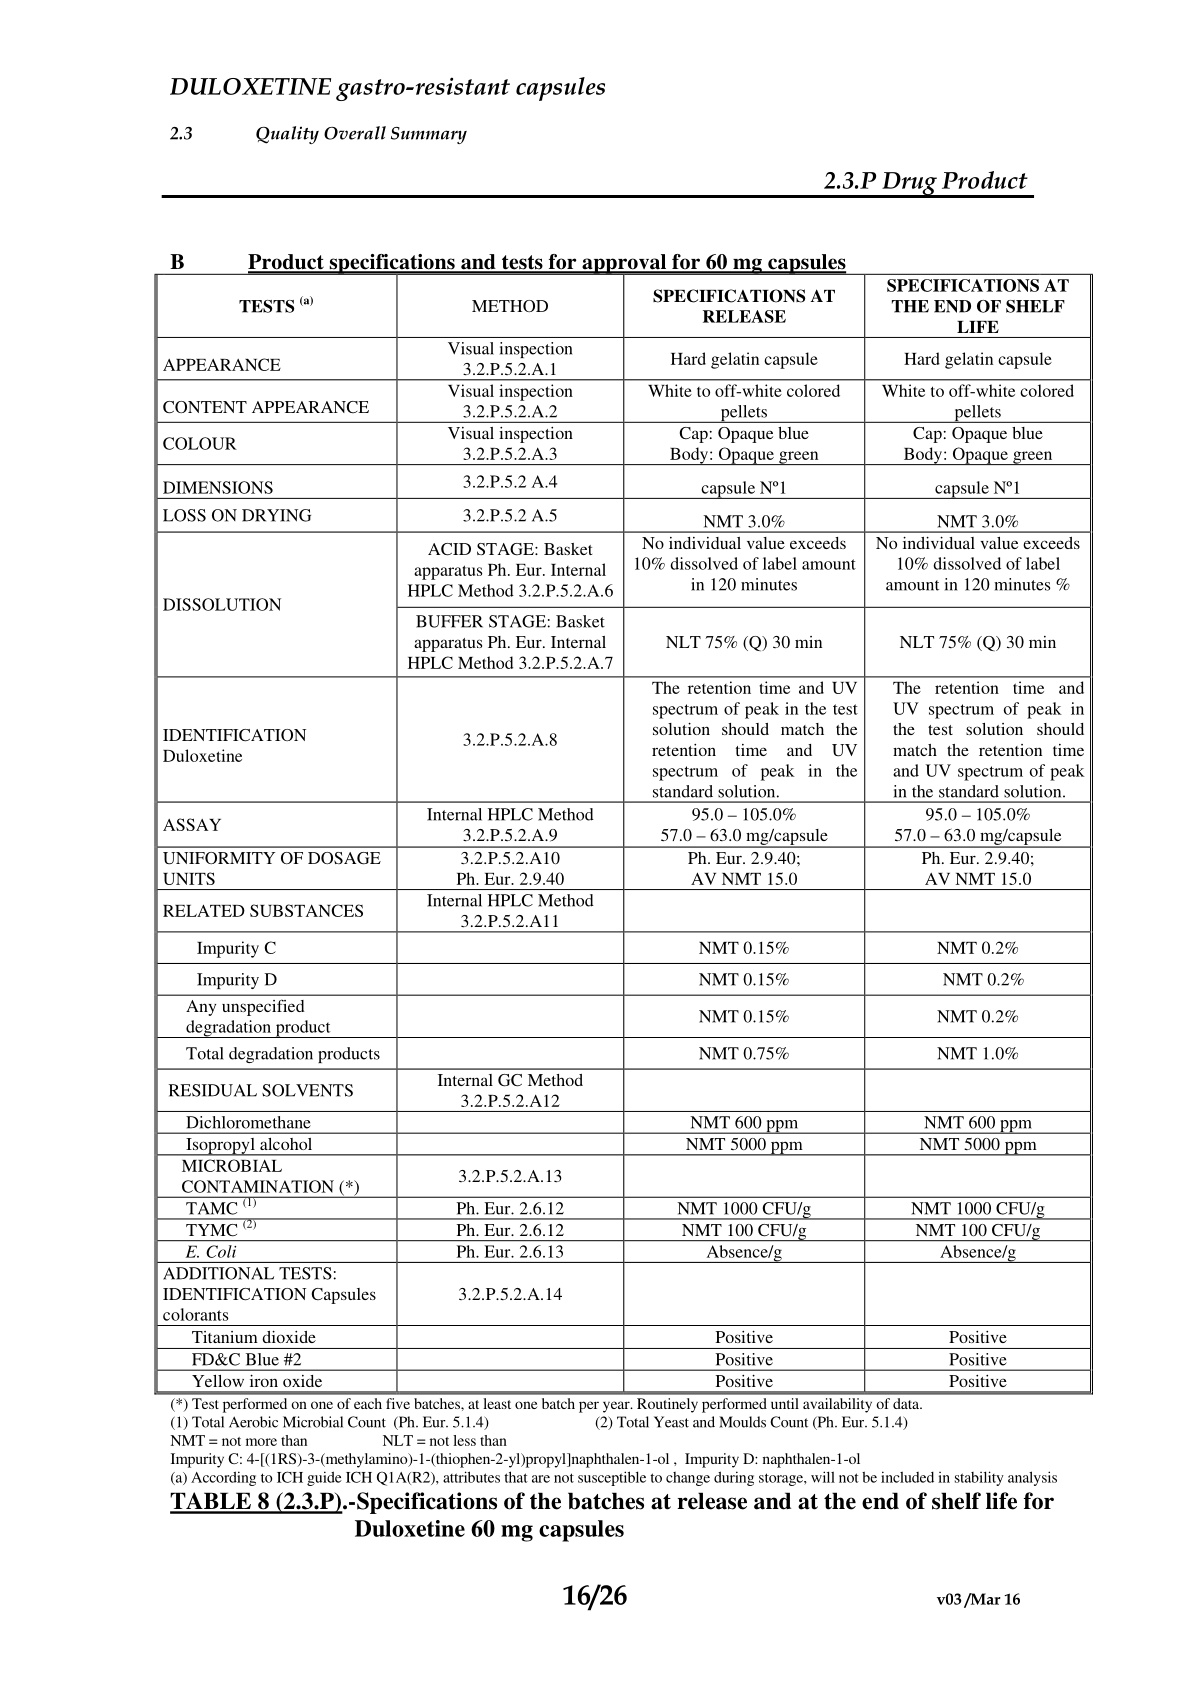merged_cells: (152, 273, 1094, 1395)
